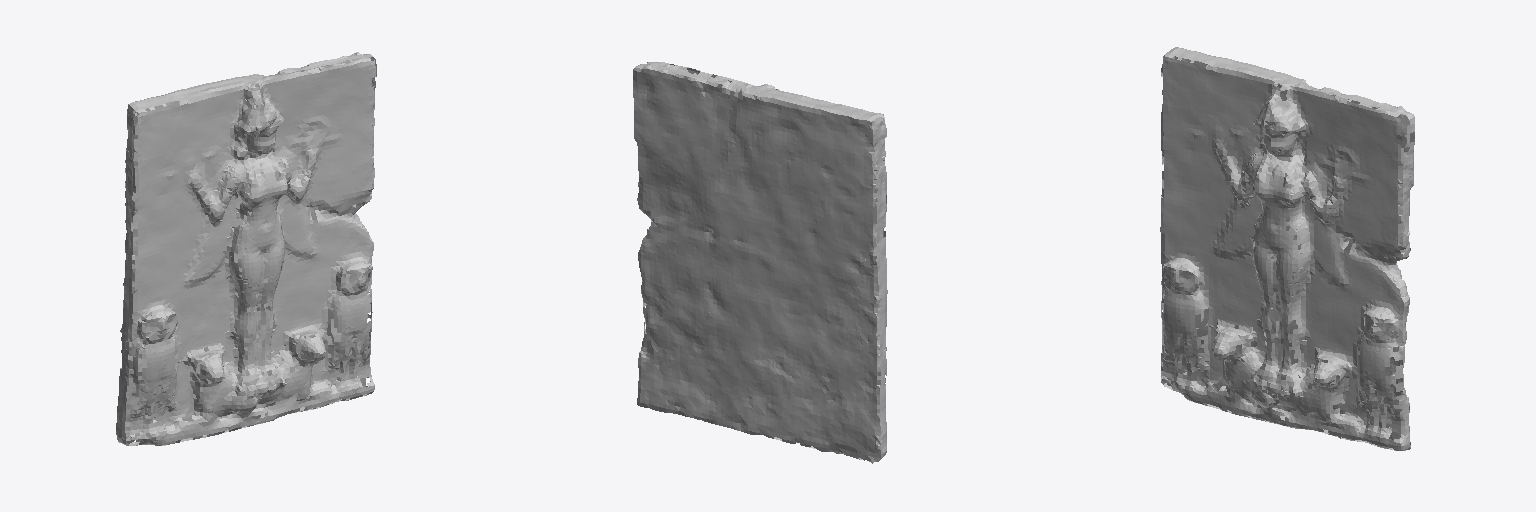
Rendered from T5_M2_Adriana_Janssens.obj.
3 renders of one model, left to right at view 1: azimuth 30°, elevation 25°; view 2: azimuth 150°, elevation 25°; view 3: azimuth 330°, elevation 25°, orthographic.
Bounding box in the file's own units: 6.05 × 7.89 × 1.18.